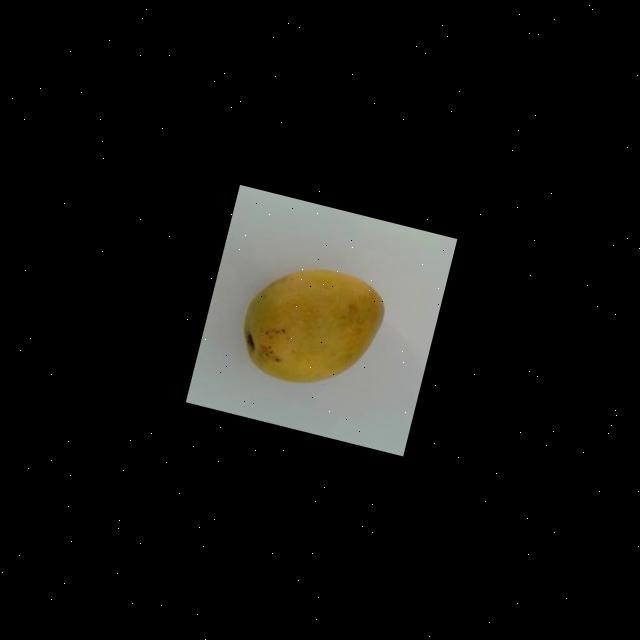Mango: (230, 252, 392, 400)
